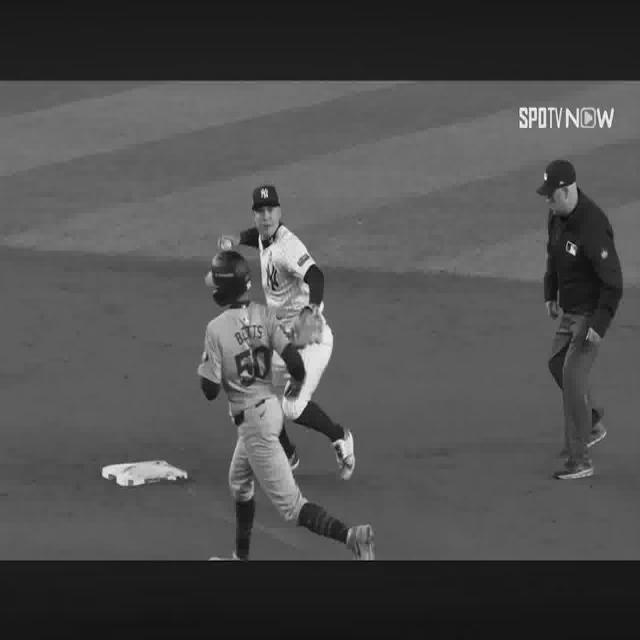base: (101, 460, 188, 487)
baseball: (222, 240, 232, 253)
baseball_glove: (296, 308, 325, 347)
shoe: (334, 428, 355, 480), (348, 523, 375, 562), (552, 457, 592, 479), (589, 423, 606, 447)
